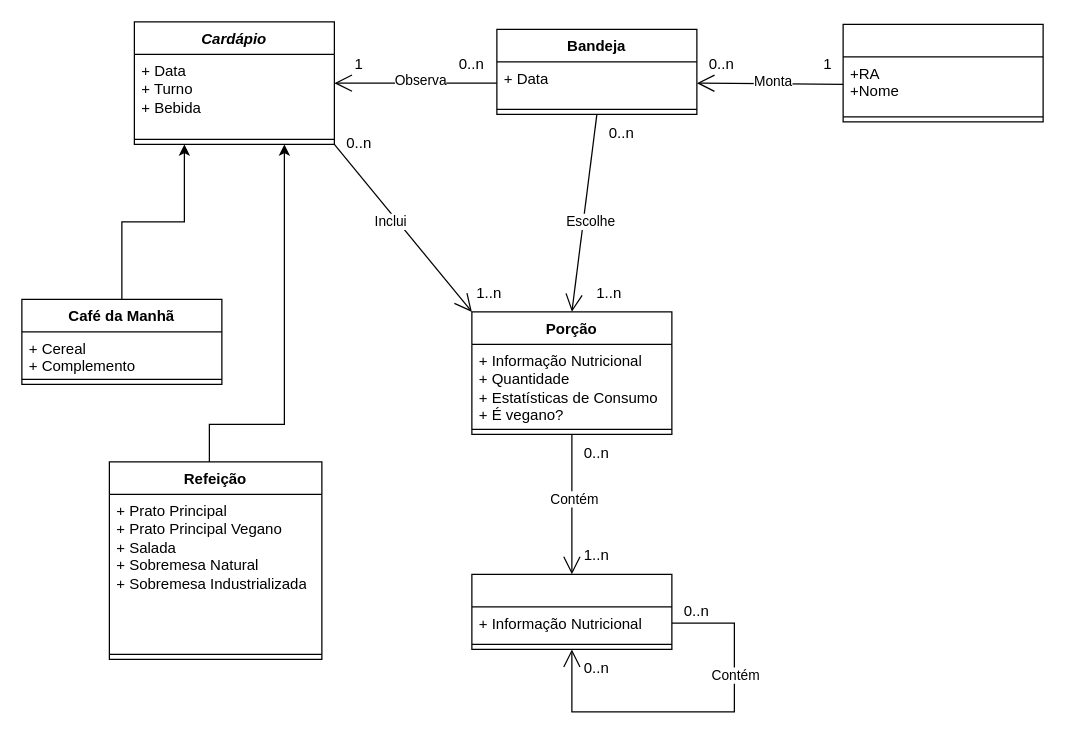
Image size: 1065x751. Some labels were removed from this diagram. The shapes that lost their labels are listed below. From the top down, each one's box as (x1, y1, x2, y2) in pixels, then its label:
(842, 23, 1043, 122): Aluno
(471, 573, 672, 649): Ingrediente
